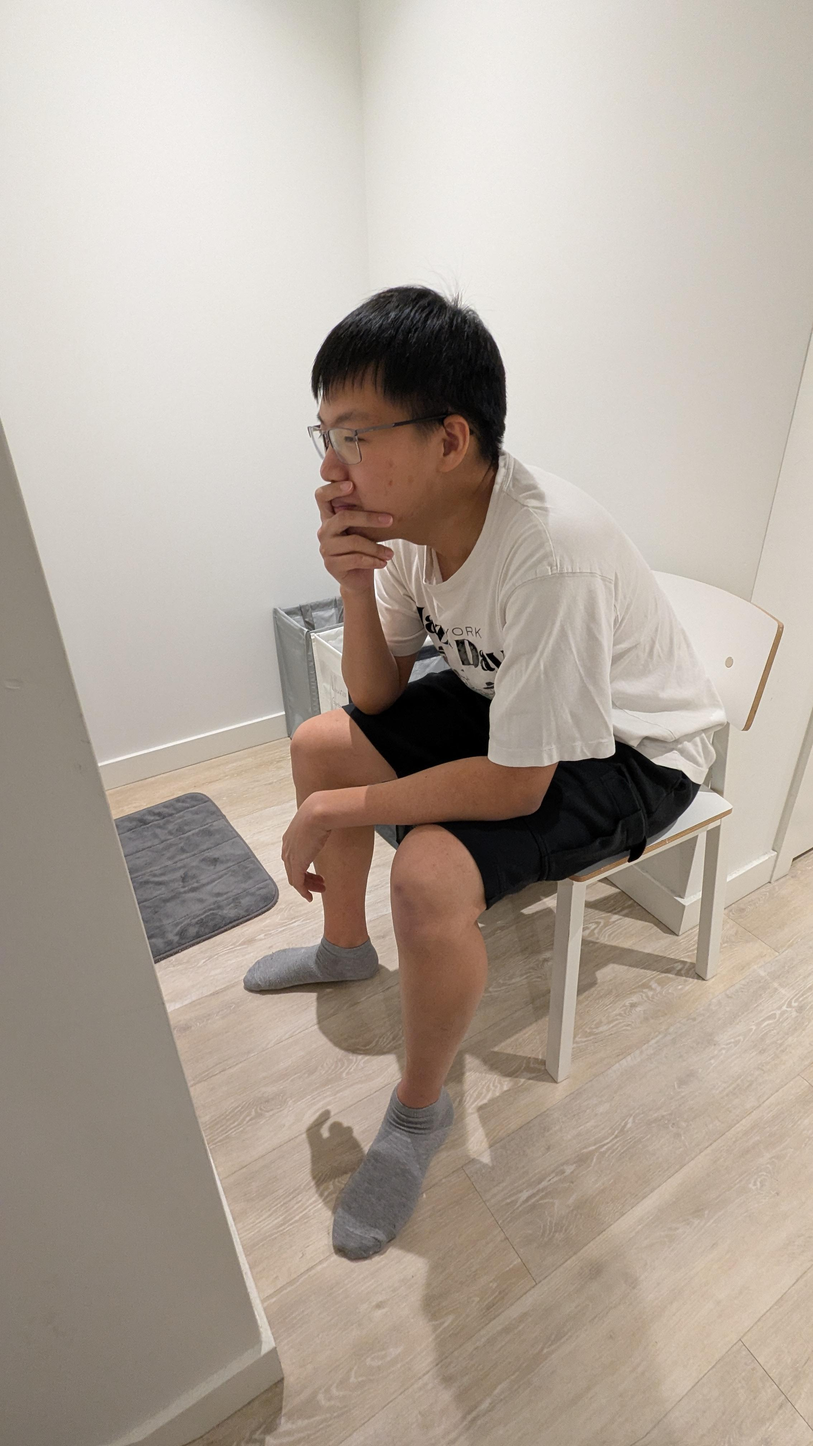BadPosture: (242, 287, 726, 1260)
